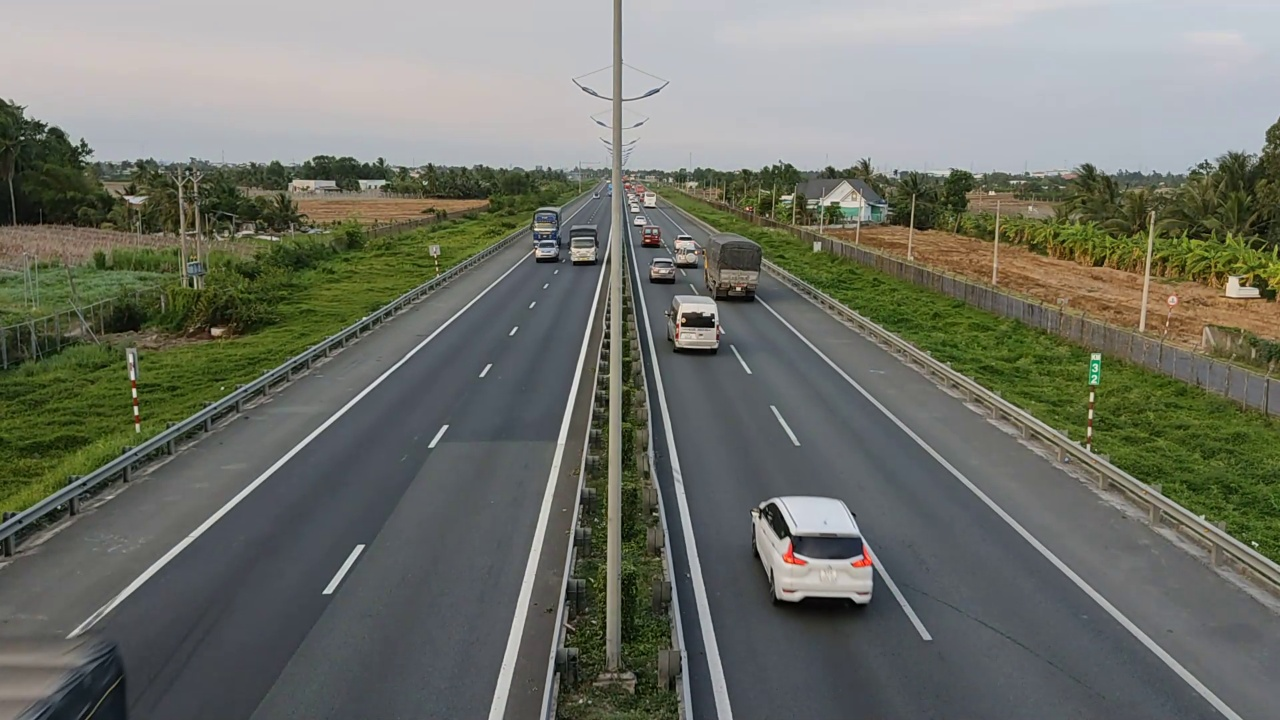car: (750, 495, 874, 605), (665, 295, 724, 353), (649, 257, 677, 283)
truck: (703, 231, 762, 300)
